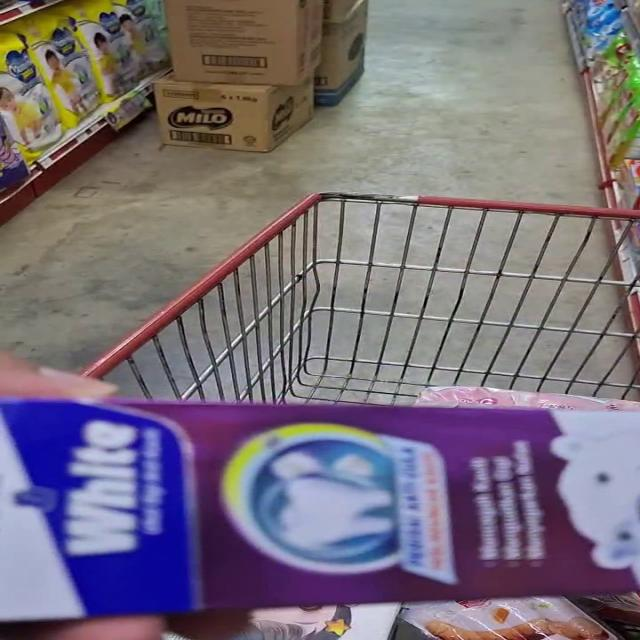Ubat Gigi: (0, 381, 640, 607)
